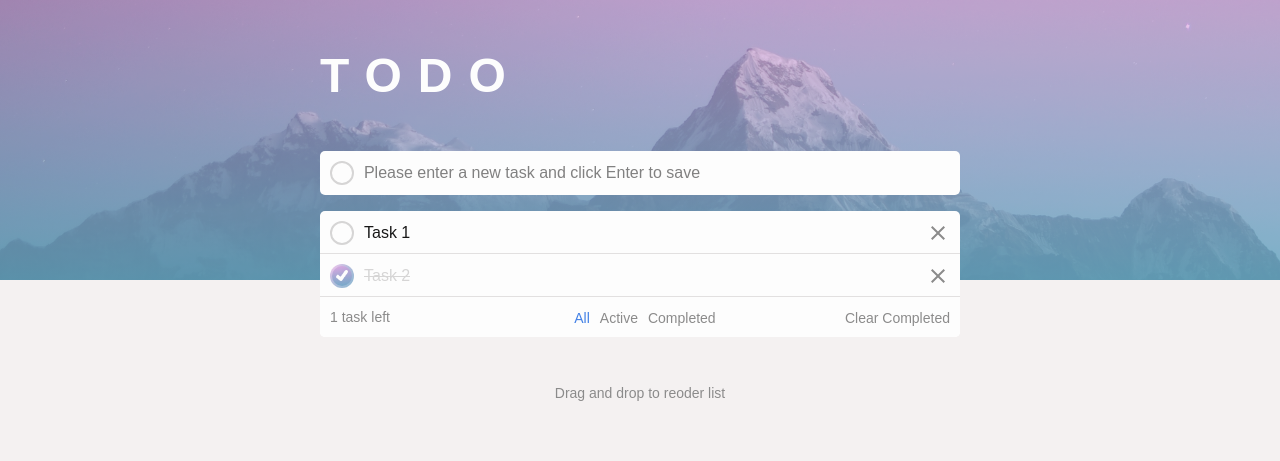
Scenario: to-do app › can add a new task
The width and height of the screenshot is (1280, 461).
Type "New Task" into the field with placeholder "Please enter a new task and click Enter to save" at (657, 173), box [364, 164, 950, 182]
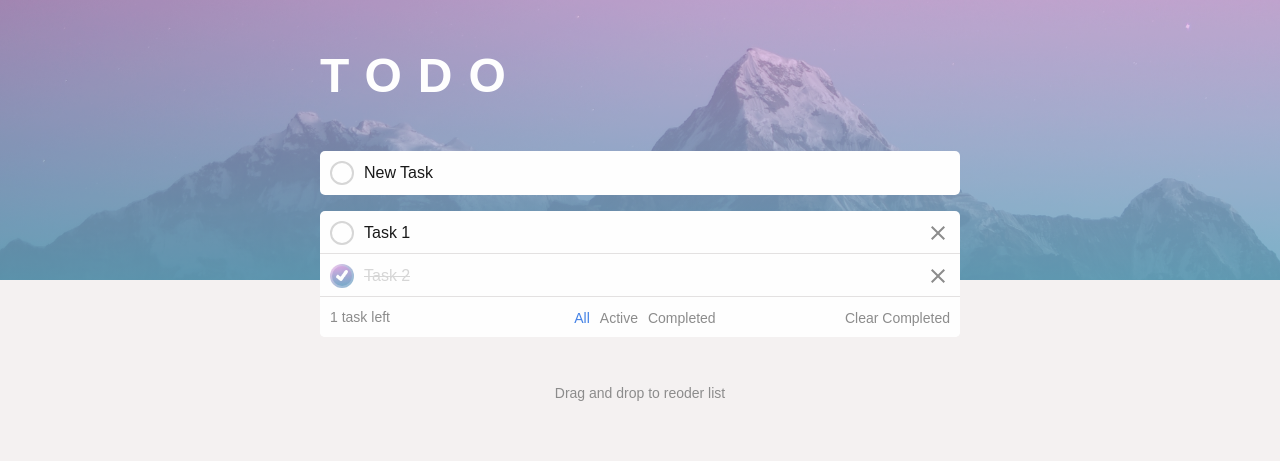
Press Enter in the field, box [364, 164, 950, 182]
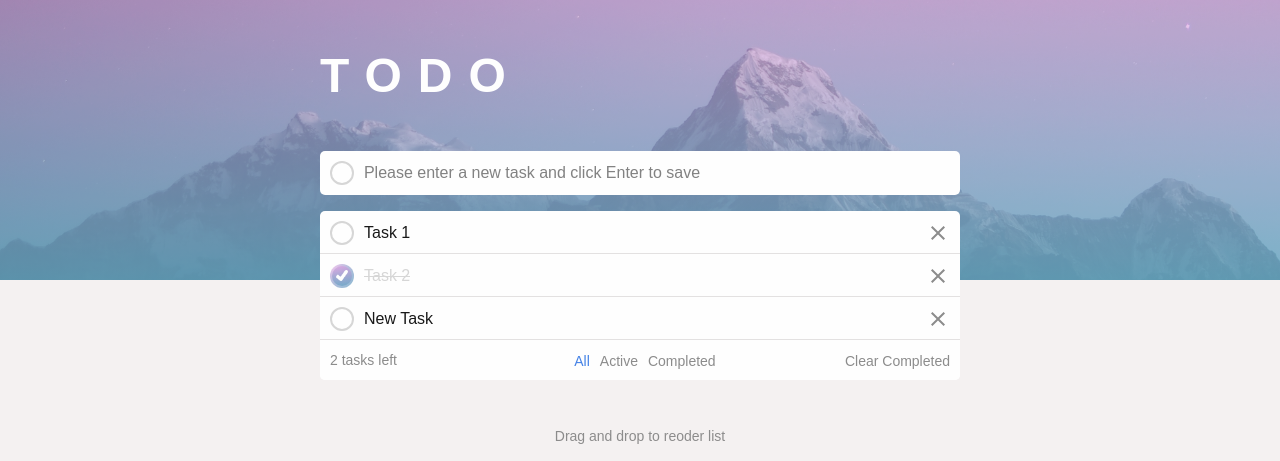
Check: the number of labels with test id "task" is 3, box [364, 224, 410, 242]; [364, 267, 410, 285]; [364, 310, 433, 328]
Check: the label with test id "task" reads "New Task", box [364, 310, 433, 328]
Check: the text "2 tasks left" is shown, box [330, 352, 397, 368]
